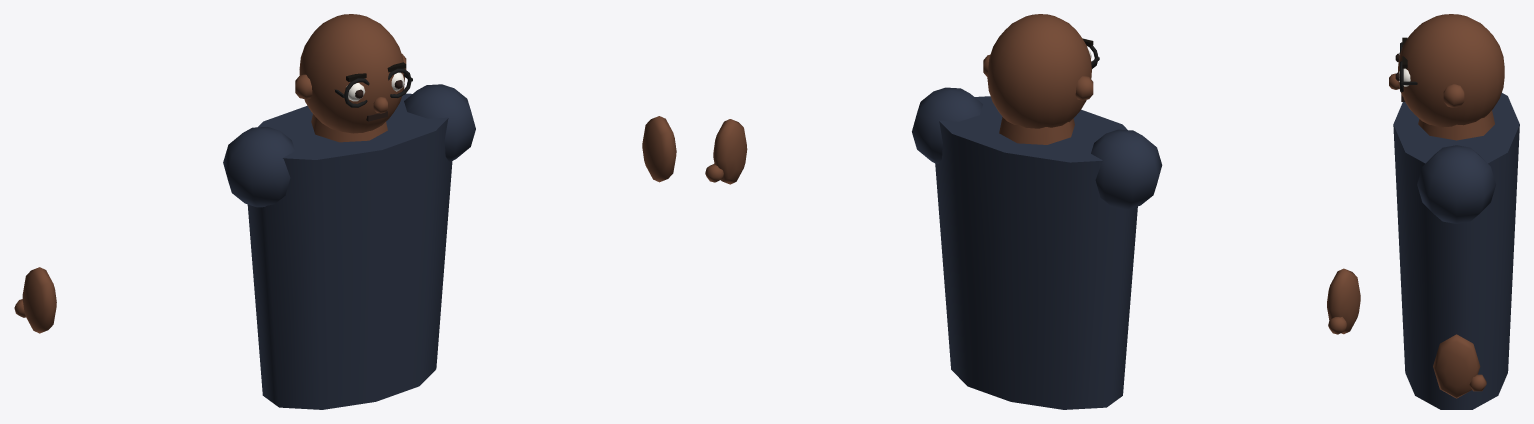
Rendered from avatar-night.glb.
3 renders of one model, left to right at view 1: azimuth 30°, elevation 25°; view 2: azimuth 150°, elevation 25°; view 3: azimuth 270°, elevation 25°, orthographic. The views are drawn at different scales.
Parts seen in each view (by area): view 1: Torso, Skull, ShoulderR, ShoulderL, HandL, HandR, Collar; view 2: Torso, Skull, ShoulderR, ShoulderL, HandL, HandR, Collar; view 3: Torso, Skull, ShoulderL, HandL, Collar, EarL, HandL_Thumb.
Boxes of the visible parts, x1=… form: Torso: x1=247, y1=93, x2=452, y2=409; Skull: x1=299, y1=14, x2=404, y2=133; ShoulderR: x1=223, y1=127, x2=294, y2=207; ShoulderL: x1=404, y1=84, x2=475, y2=161; HandL: x1=642, y1=116, x2=676, y2=182; HandR: x1=22, y1=267, x2=56, y2=333; Collar: x1=311, y1=114, x2=387, y2=142; Torso: x1=935, y1=96, x2=1137, y2=409; Skull: x1=987, y1=14, x2=1091, y2=128; ShoulderR: x1=1091, y1=129, x2=1162, y2=209; ShoulderL: x1=912, y1=87, x2=982, y2=163; HandL: x1=713, y1=119, x2=747, y2=184; HandR: x1=1327, y1=268, x2=1360, y2=334; Collar: x1=999, y1=117, x2=1074, y2=144; Torso: x1=1393, y1=93, x2=1519, y2=409; Skull: x1=1398, y1=14, x2=1504, y2=127; ShoulderL: x1=1417, y1=145, x2=1495, y2=223; HandL: x1=1433, y1=334, x2=1480, y2=398; Collar: x1=1418, y1=110, x2=1494, y2=140; EarL: x1=1443, y1=84, x2=1464, y2=107; HandL_Thumb: x1=1469, y1=374, x2=1486, y2=391.
Bounding box in the file's own units: 1.37 × 0.7424 × 0.2482.
